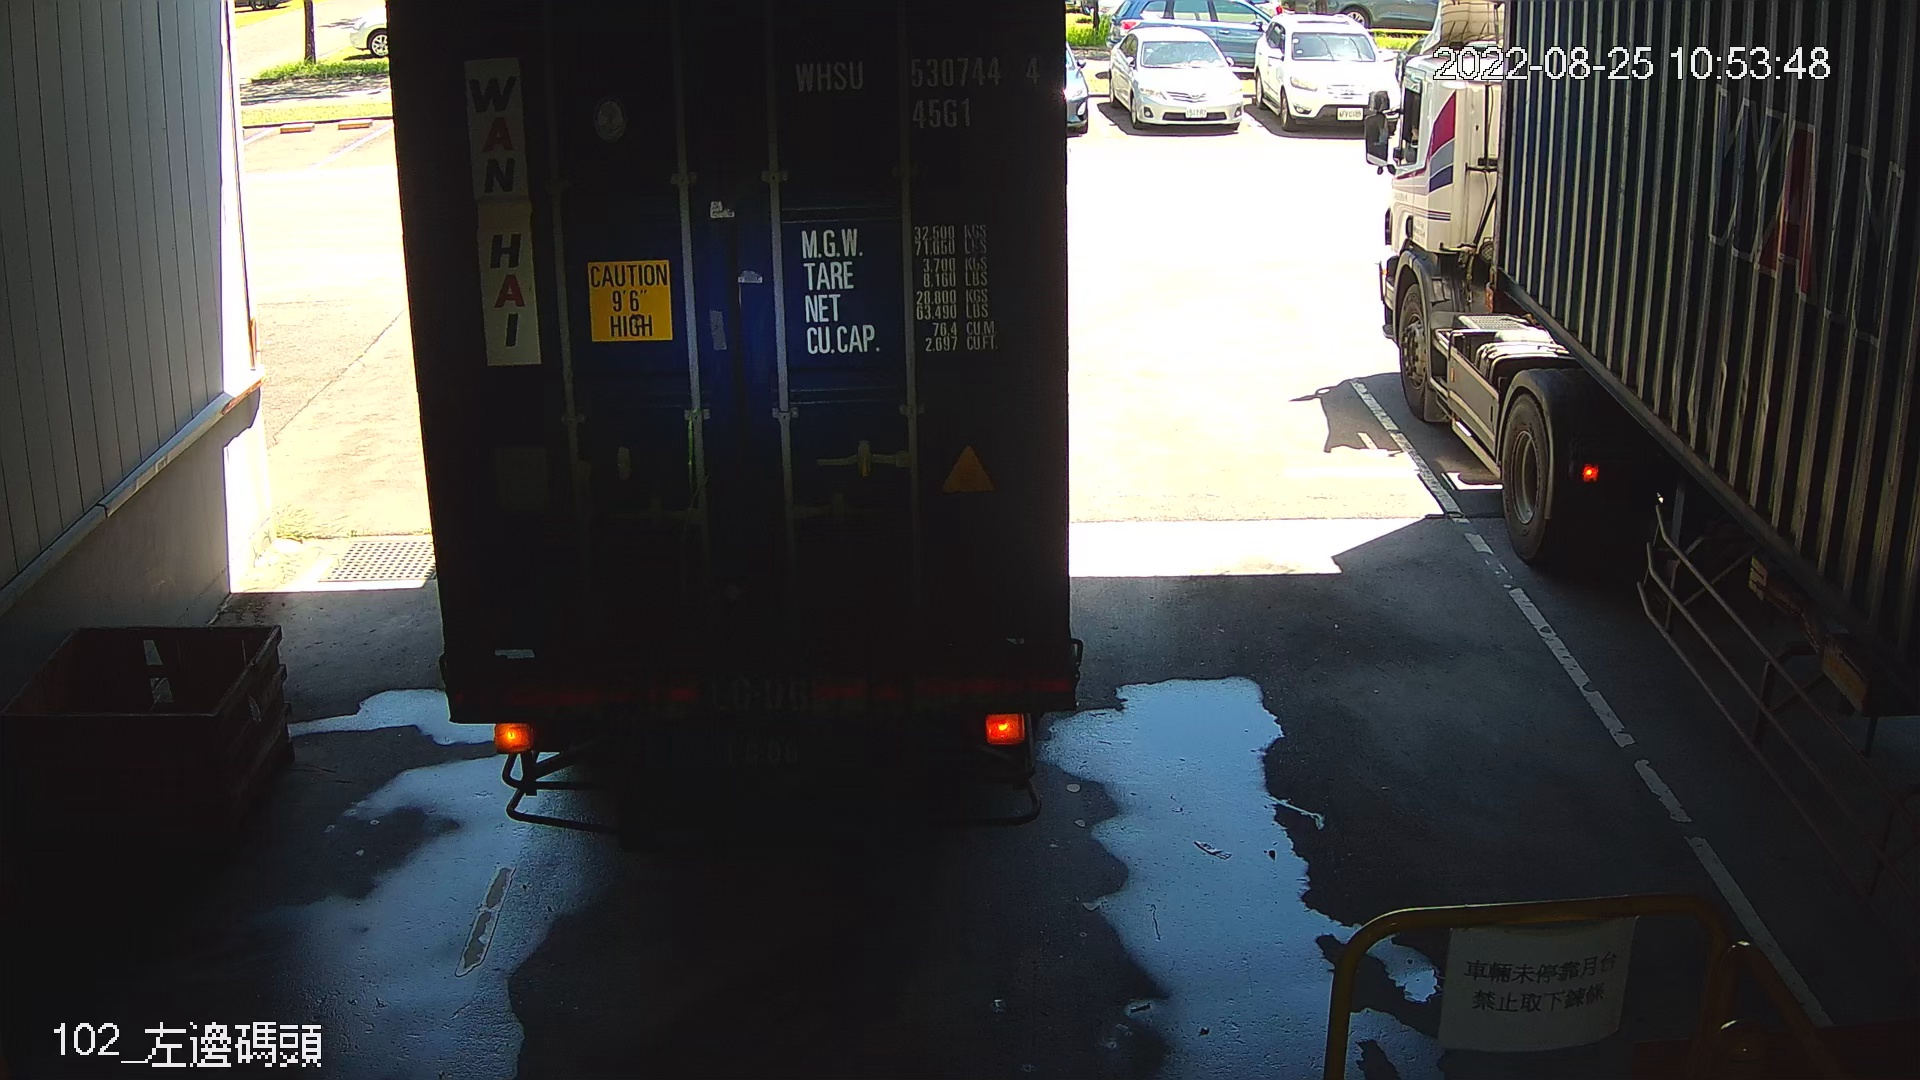container: (785, 41, 1054, 138)
